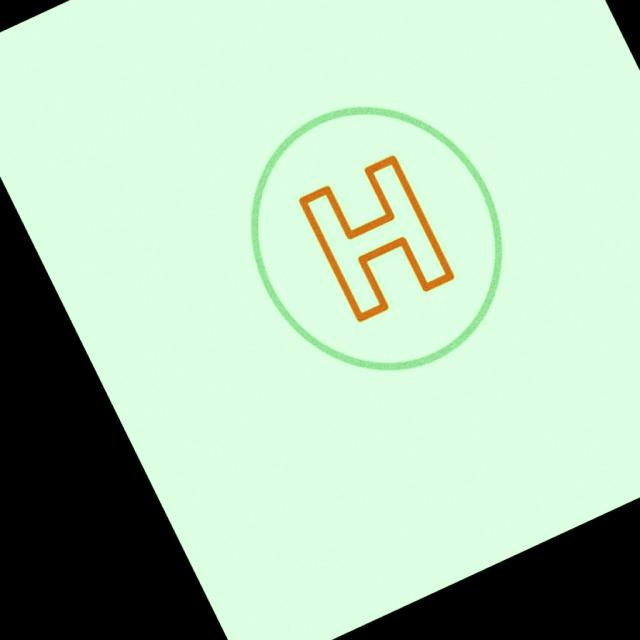helipad: (246, 101, 507, 377)
